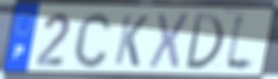2: (34, 11, 73, 69)
C: (72, 10, 114, 71)
D: (183, 11, 226, 72)
K: (112, 12, 150, 69)
L: (222, 10, 257, 75)
X: (147, 11, 192, 72)
